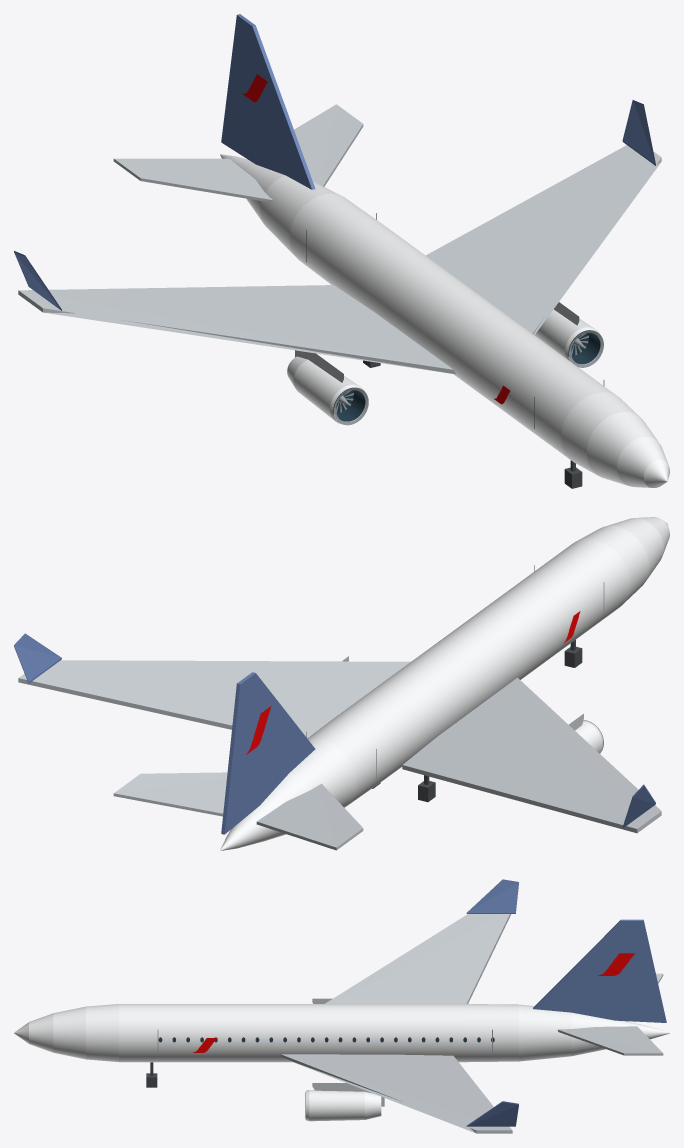
The model's file is a321-AFR-v2.gltf.
3 views of the same model, one above another, from view 1: azimuth 30°, elevation 25°; view 2: azimuth 150°, elevation 25°; view 3: azimuth 270°, elevation 25° (orthographic). The views are drawn at different scales.
Visible parts, largest first — view 1: object 1; view 2: object 1, Gear; view 3: object 1.
Part boxes in pixels (box(x1,y1,x2,y2)): object 1: box(14, 14, 669, 487); object 1: box(14, 517, 669, 850); Gear: box(372, 640, 582, 802); object 1: box(14, 879, 669, 1133).
Size of the model in its own units: 36 by 12.52 by 45.
Materials: 7 (1 with a texture image).
